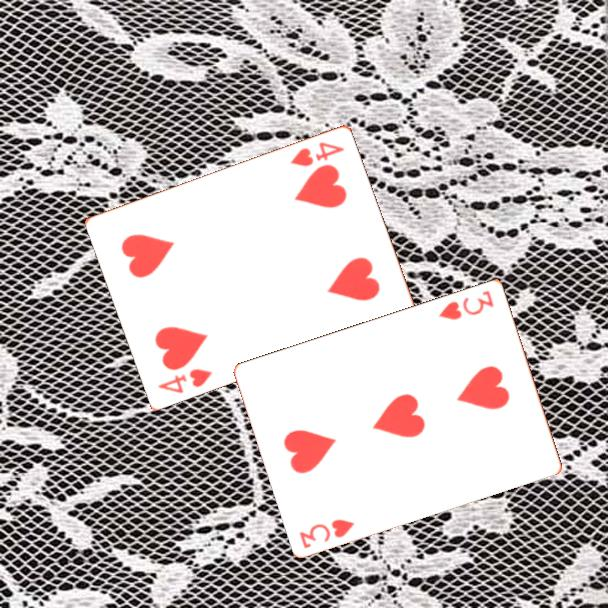h03: (435, 286, 497, 323), (296, 515, 358, 551)
h04: (155, 364, 216, 396), (287, 138, 348, 169)
